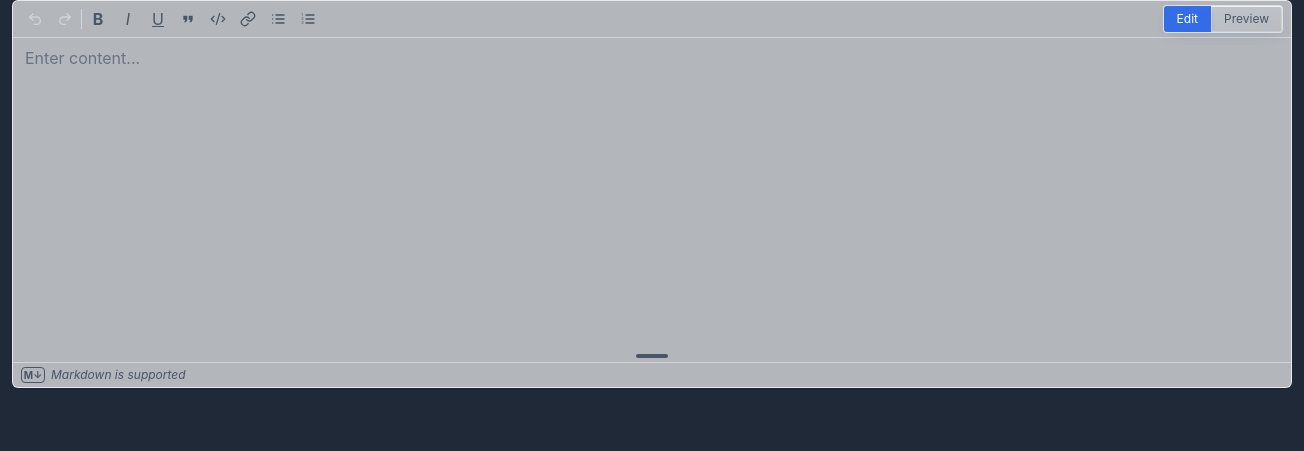
Test: MarkdownEditorField › word link suggestions › shows a suggestion and inserts a word link into the value when accepted
In the text box: x=652, y=194 [13,38,1291,350], type "`apple`"
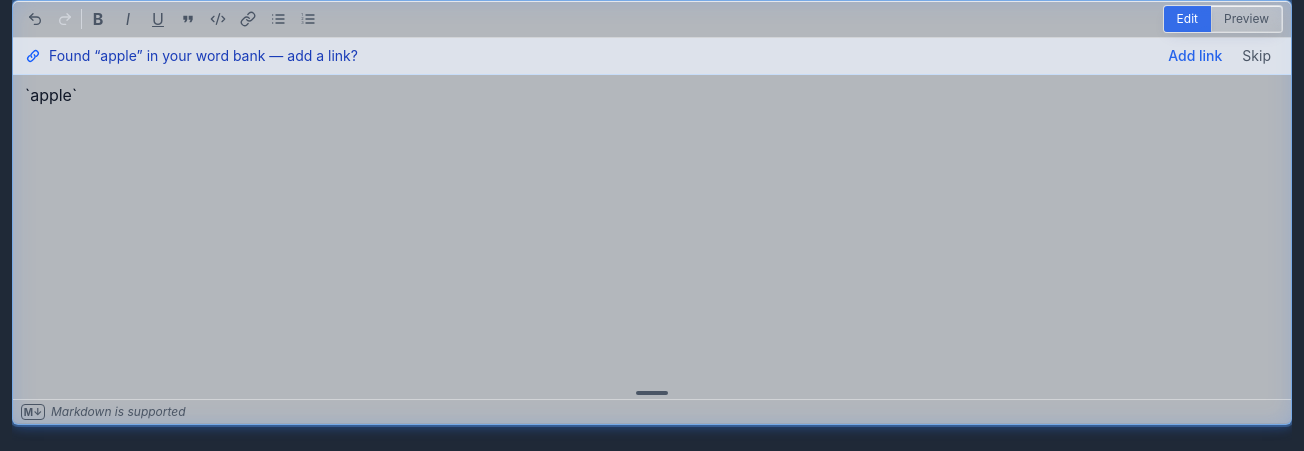
Expected: the element that starts with "Edit" has class "glass-glow" "glass-glow-blue"
Click the button "Add link": x=1195, y=56 [1160,44,1230,68]
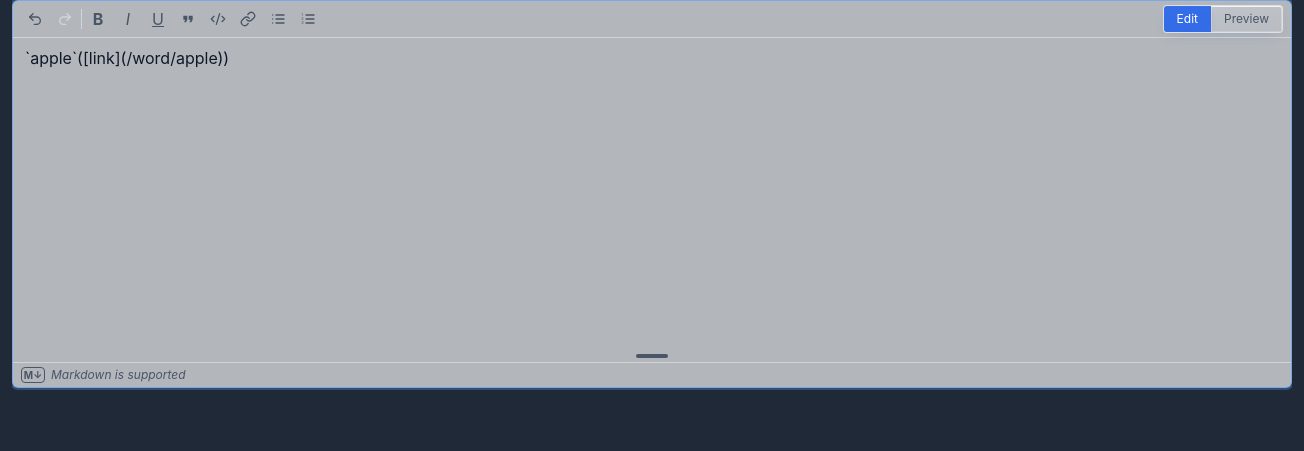
Expected: the text box holds "`apple`([link](/word/apple))"
Expected: the button "Add link" is gone
